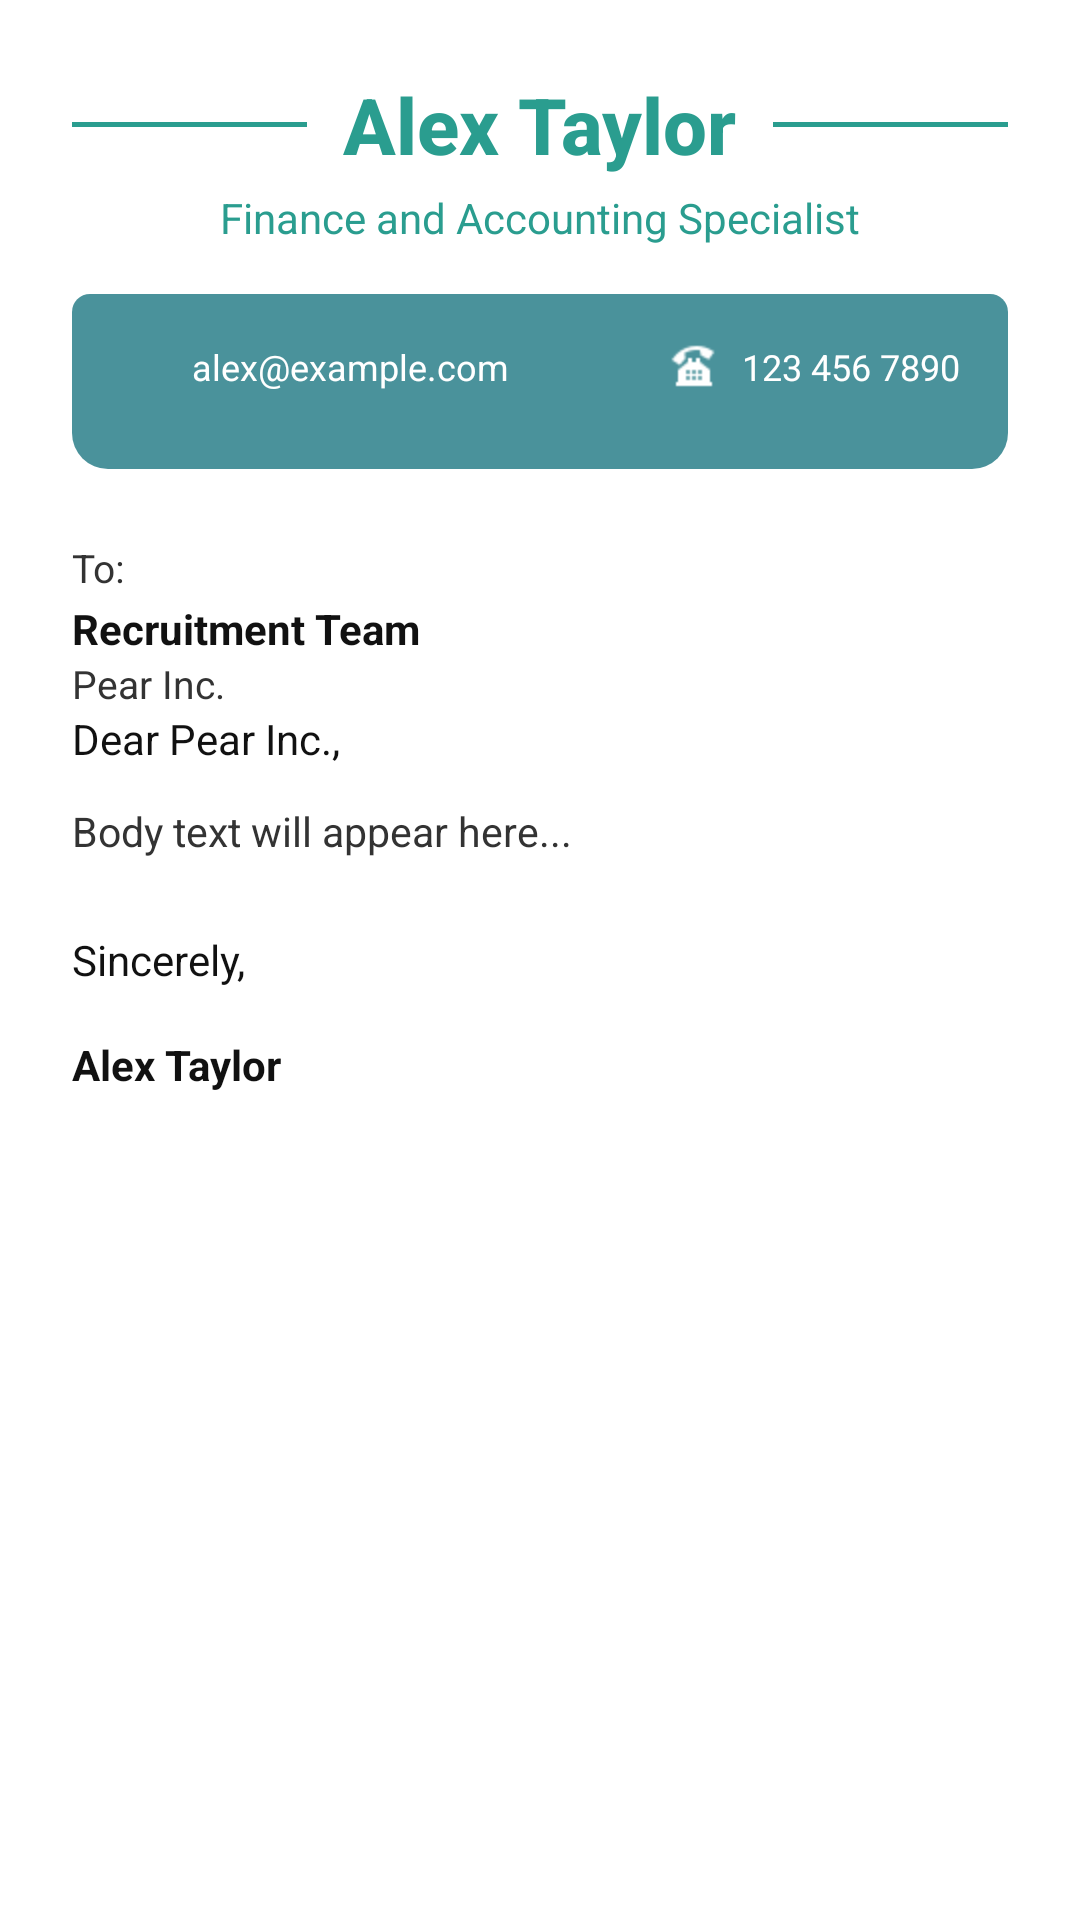

Named icons in this screenshot (1080*1920) and their bounding boxes, [x1=x1, y1=y1, x2=x2, y2=y2]:
ringing: [x1=671, y1=345, x2=715, y2=387]
